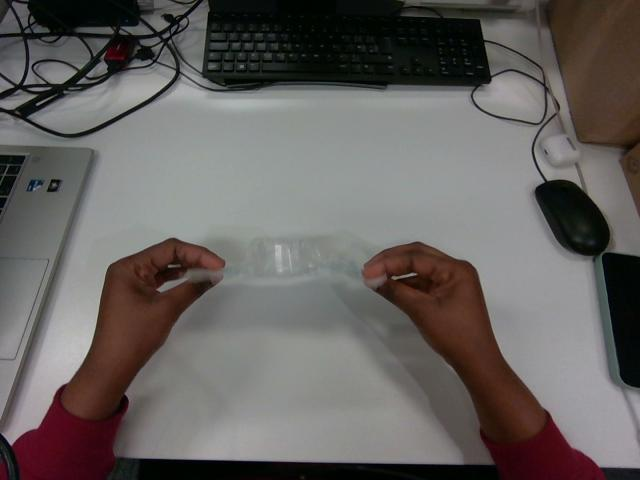gallipot: (185, 233, 385, 287)
